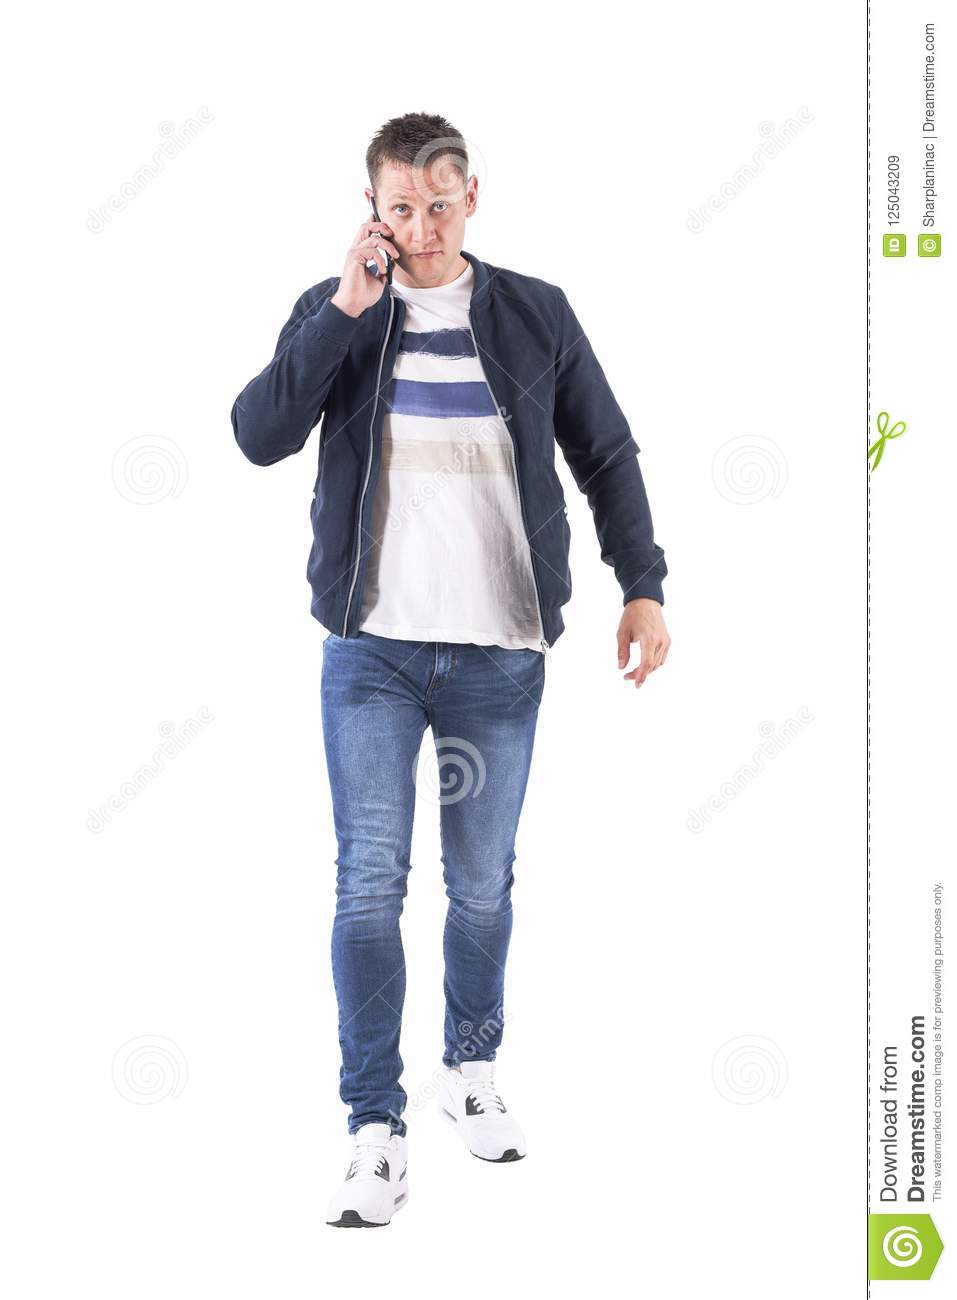phone: (363, 192, 397, 293)
talk: (335, 189, 457, 314)
